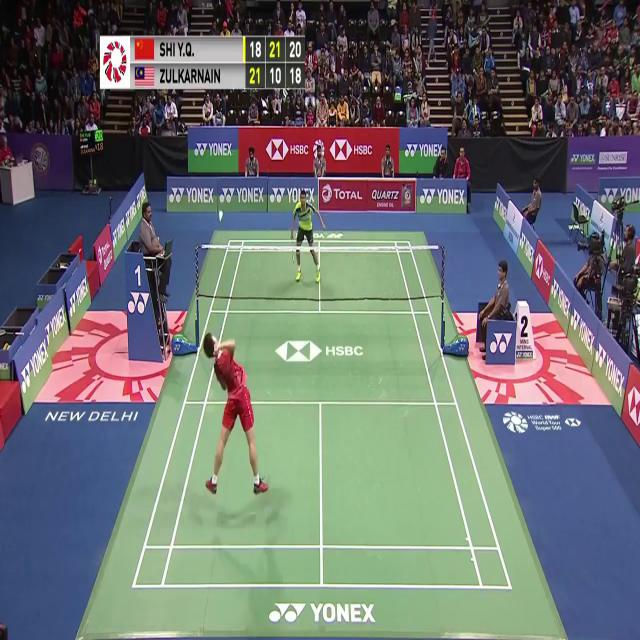Shuttlecock: (216, 214, 223, 225)
